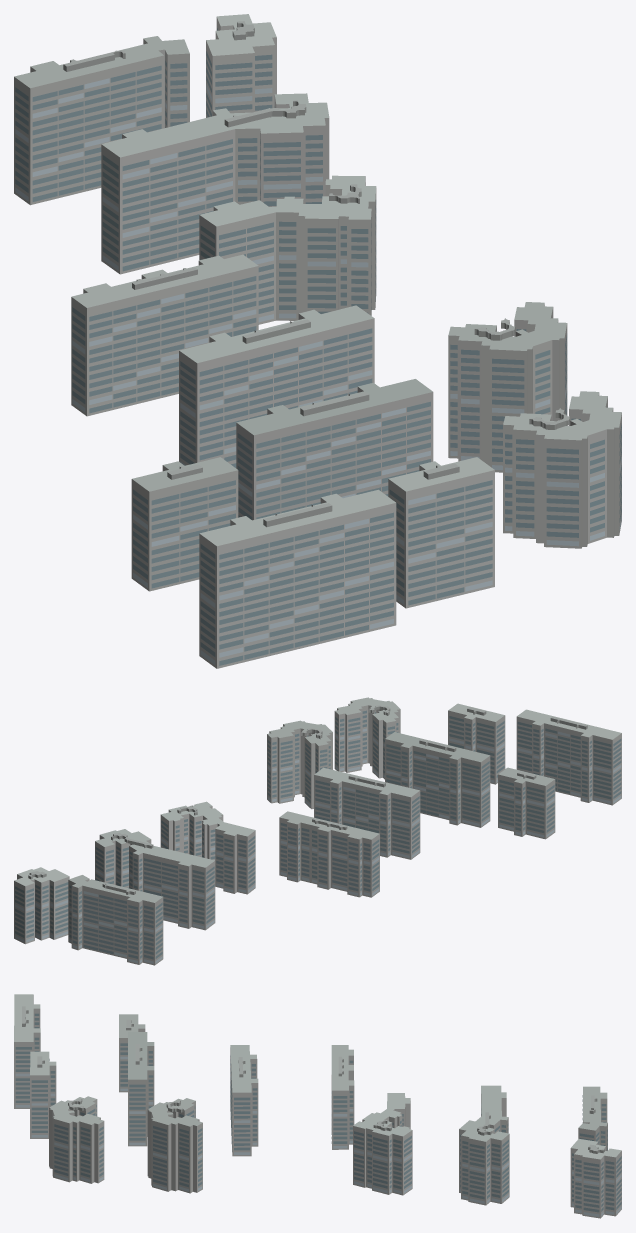
Rendered from apt-a13410007.glb.
3 renders of one model, top to bottom at view 1: azimuth 30°, elevation 25°; view 2: azimuth 150°, elevation 25°; view 3: azimuth 270°, elevation 25°, orthographic. The views are drawn at different scales.
Visible parts, largest first — view 1: apt-a13410007; view 2: apt-a13410007; view 3: apt-a13410007.
Part boxes in pixels (left/top/right/bottom): apt-a13410007: left=14, top=14, right=621, bottom=668; apt-a13410007: left=14, top=697, right=621, bottom=965; apt-a13410007: left=14, top=994, right=621, bottom=1218.
Bounding box in the file's own units: 207 × 43 × 339.
